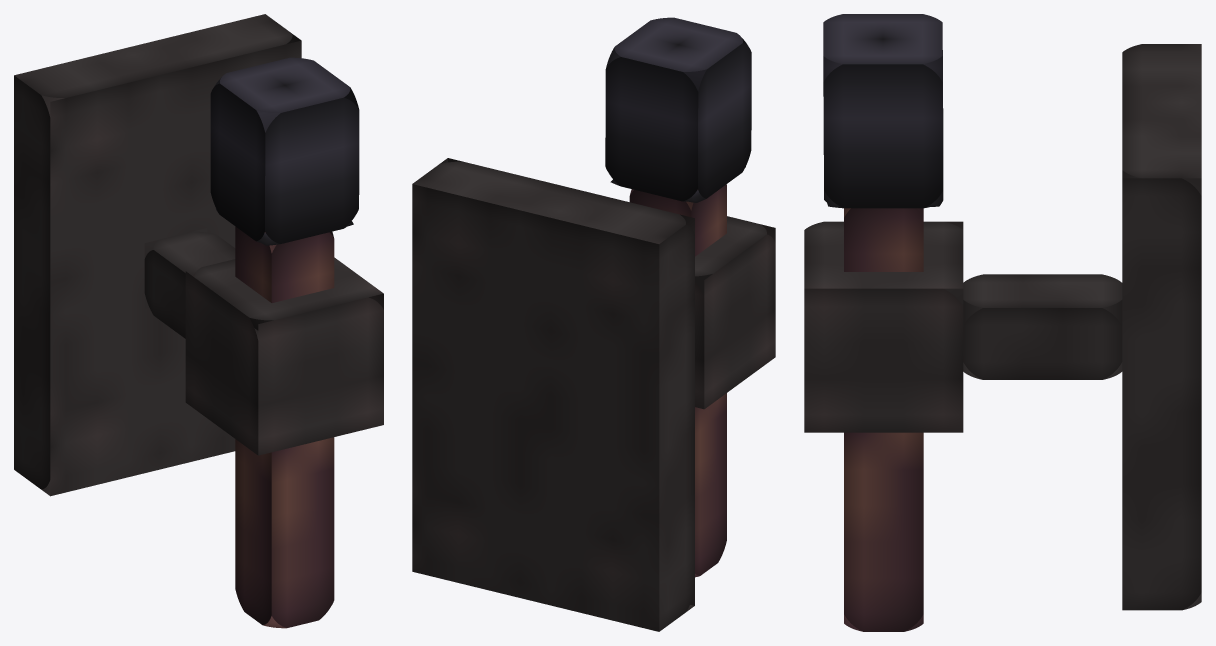
Rendered from Wall_Holder_Torch.fbx.
The picture shows the model from 3 angles, left to right: view 1: azimuth 30°, elevation 25°; view 2: azimuth 150°, elevation 25°; view 3: azimuth 270°, elevation 25°; orthographic projection. The views are drawn at different scales.
Visible parts, largest first — view 1: Wall_Holder_Torch; view 2: Wall_Holder_Torch; view 3: Wall_Holder_Torch.
Boxes of the visible parts, box(x1,y1,x2,y2) form: Wall_Holder_Torch: box(14, 14, 383, 628); Wall_Holder_Torch: box(412, 17, 775, 631); Wall_Holder_Torch: box(804, 14, 1201, 631).
Bounding box in the file's own units: 50 × 100 × 62.5.
Materials: 1 (1 with a texture image).
